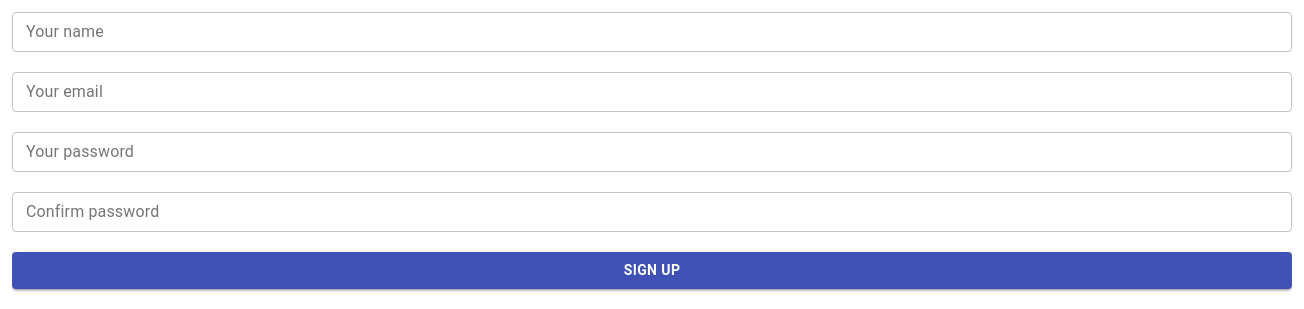
GetStartedForm tests › Create new user on valid form
In the field labelled "Your name": x=652, y=32 left=12, top=12, right=1292, bottom=52, type "John"
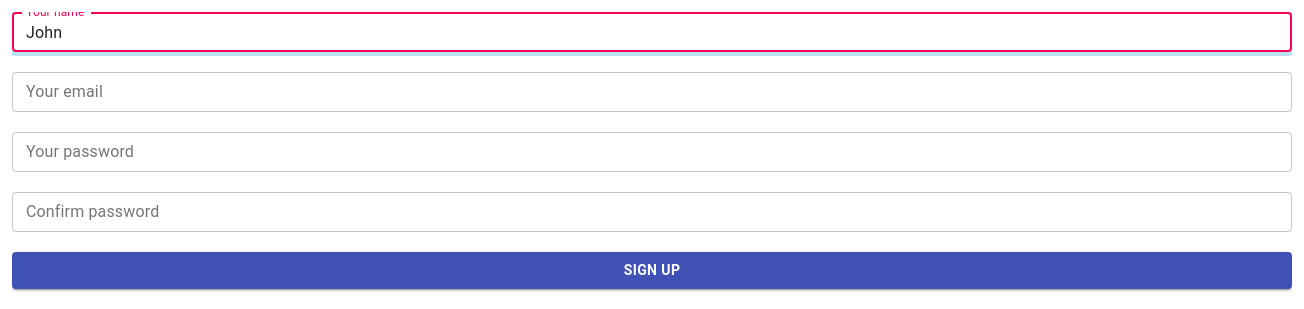
In the field labelled "Your email": x=652, y=92 left=12, top=72, right=1292, bottom=112, type "John@mail.ru"
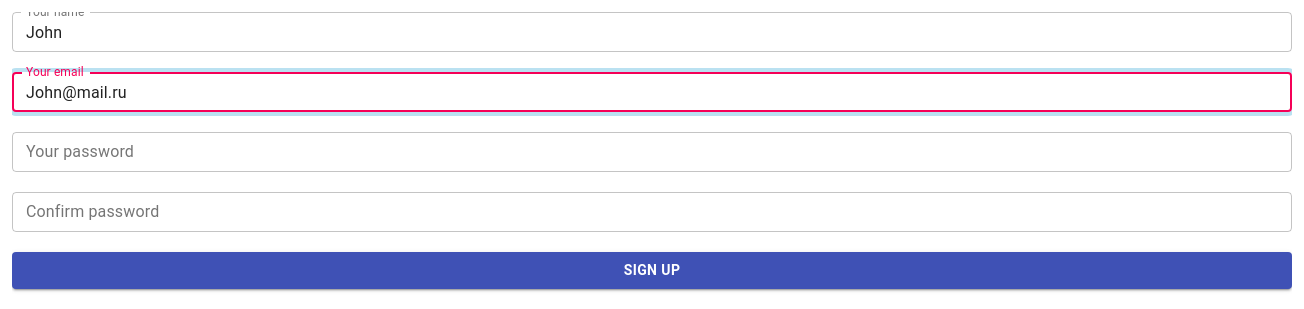
In the password field labelled "Your password": x=652, y=152 left=12, top=132, right=1292, bottom=172, type "123"
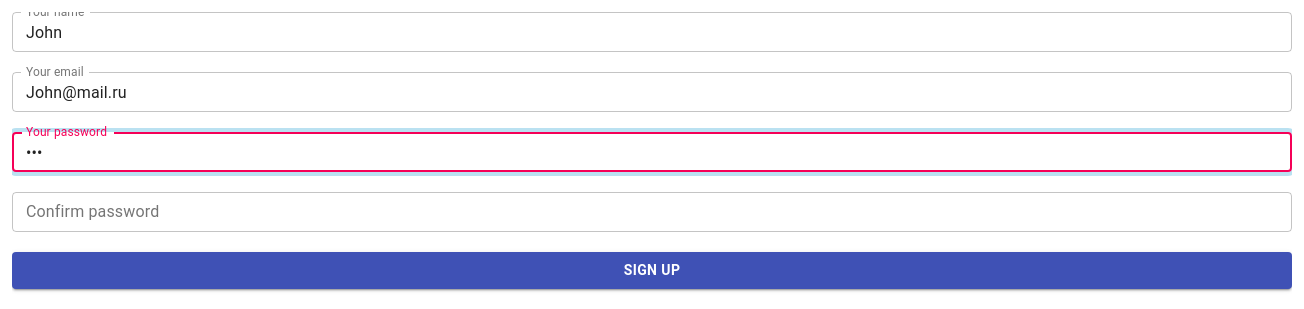
In the password field labelled "Confirm password": x=652, y=212 left=12, top=192, right=1292, bottom=232, type "123"
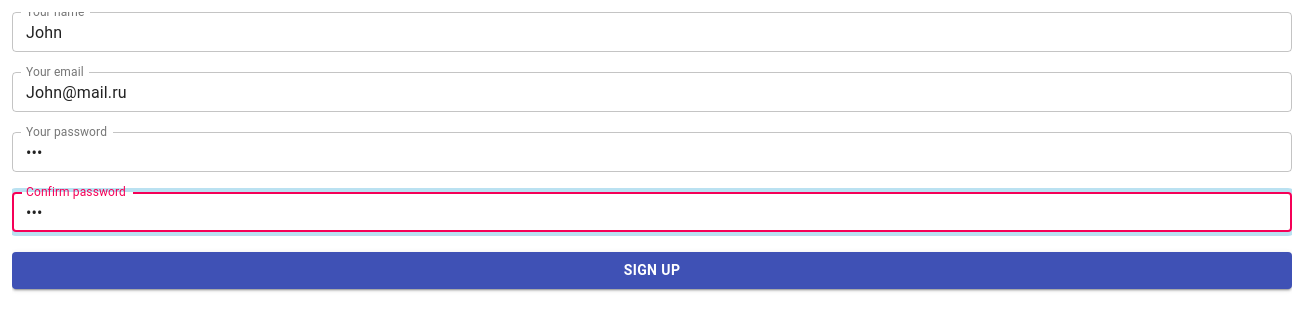
Click the button: x=652, y=270 left=12, top=252, right=1292, bottom=288
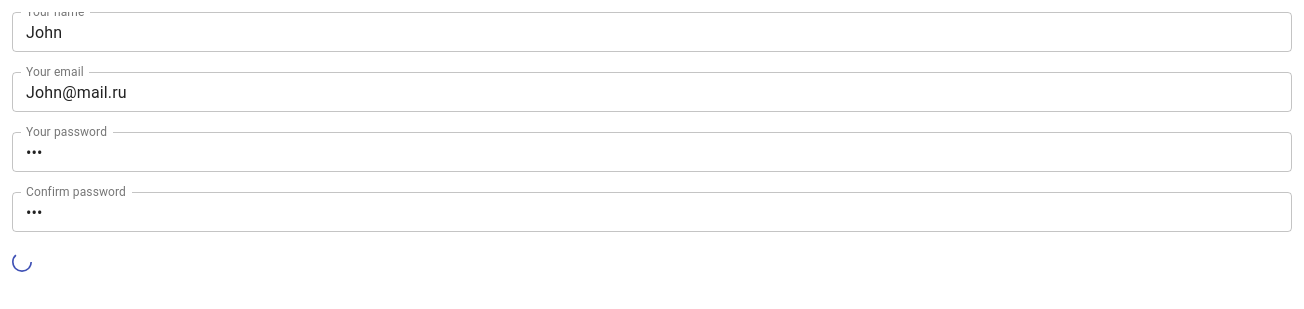
Now the progress indicator is shown, box left=12, top=252, right=32, bottom=272
